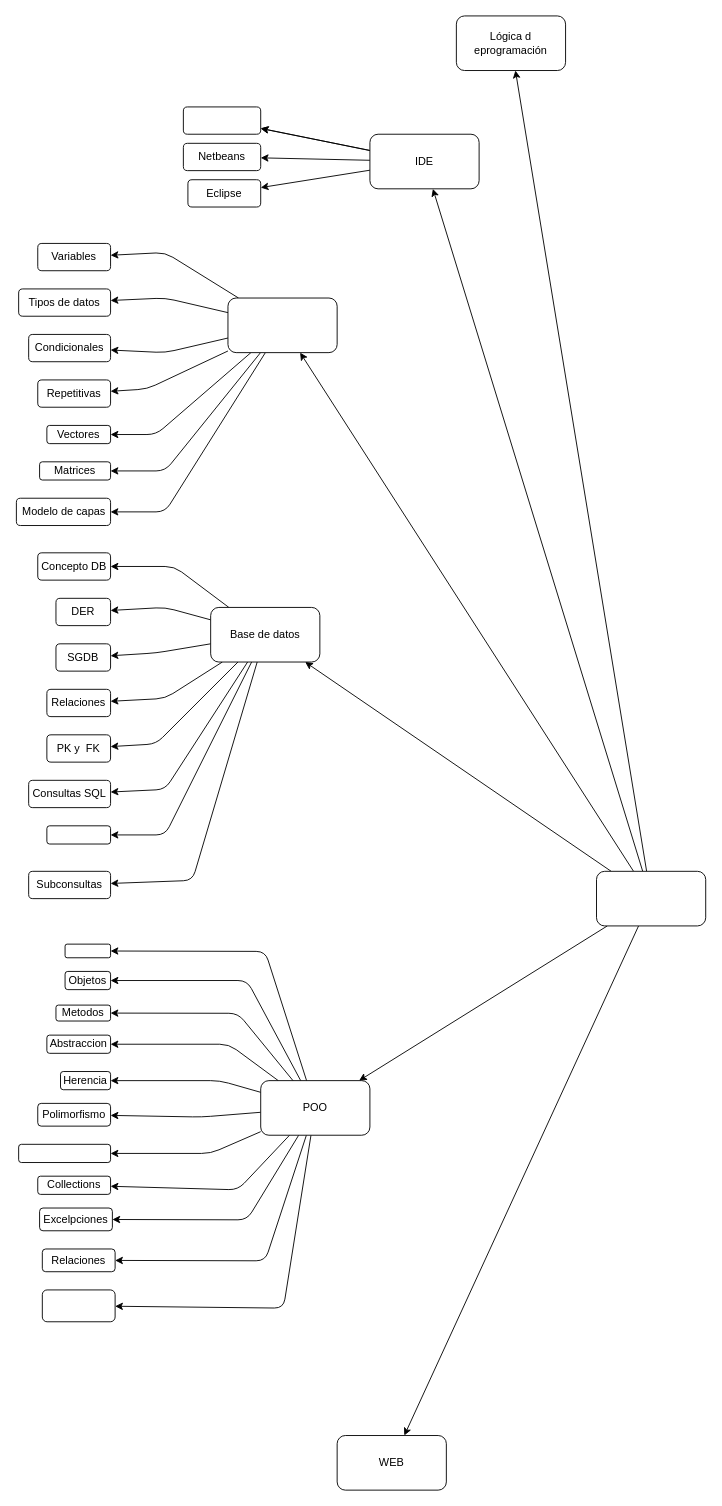
Image size: 722x1506. Some labels were removed from this diagram. Each missing label, with the centre of its shape:
Clases: point (87, 950)
Encapsulamiento: point (64, 1153)
Intellij: point (221, 120)
JAVA: point (651, 898)
Java SE: point (282, 325)
Joins: point (78, 834)
ORM y JPA (CRUD): point (78, 1305)
